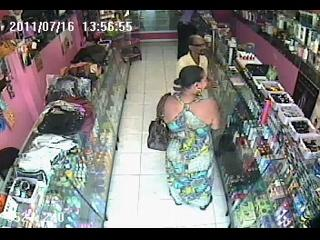Normal: (157, 65, 226, 210), (176, 34, 210, 80), (147, 117, 171, 151)
